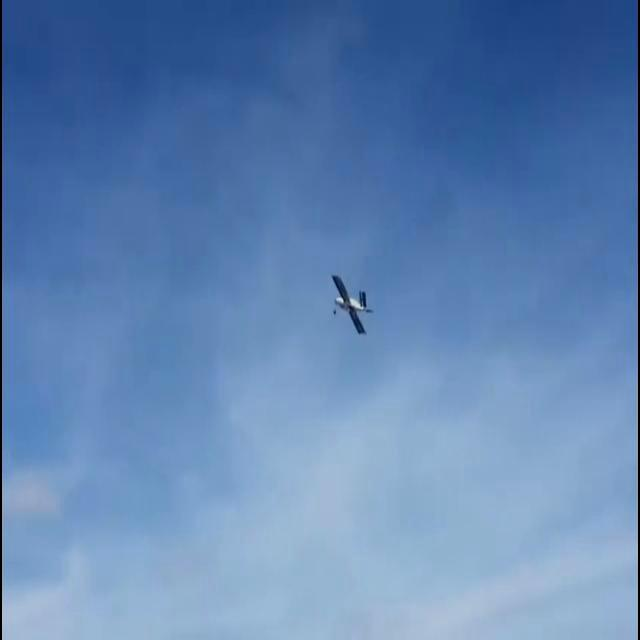iha: (325, 274, 372, 337)
